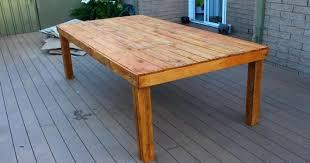wood: (54, 13, 268, 86), (132, 89, 159, 162), (247, 61, 262, 127)
